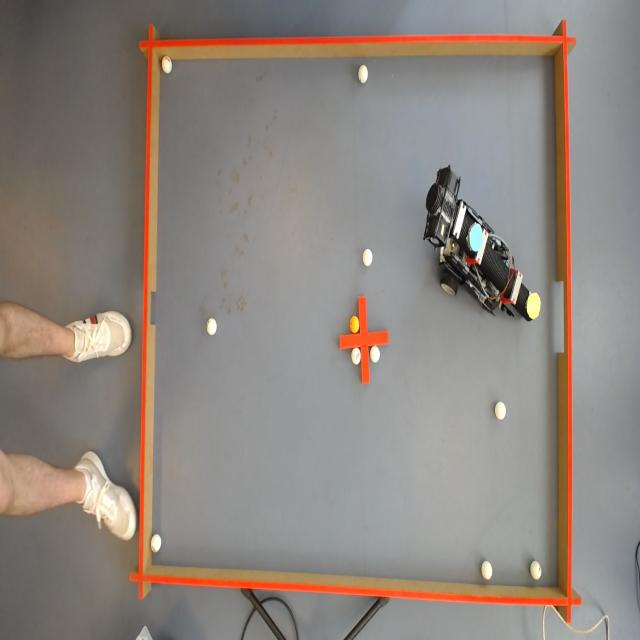orange: (348, 314, 358, 332)
robot: (419, 162, 545, 326)
robot-front: (525, 294, 541, 317)
robot-rear: (468, 222, 486, 250)
white: (530, 560, 544, 583), (481, 561, 494, 583), (152, 533, 164, 552), (496, 402, 508, 421), (358, 65, 370, 83), (363, 250, 375, 266), (162, 57, 174, 73), (206, 318, 216, 337), (350, 346, 360, 364), (370, 345, 381, 361)
